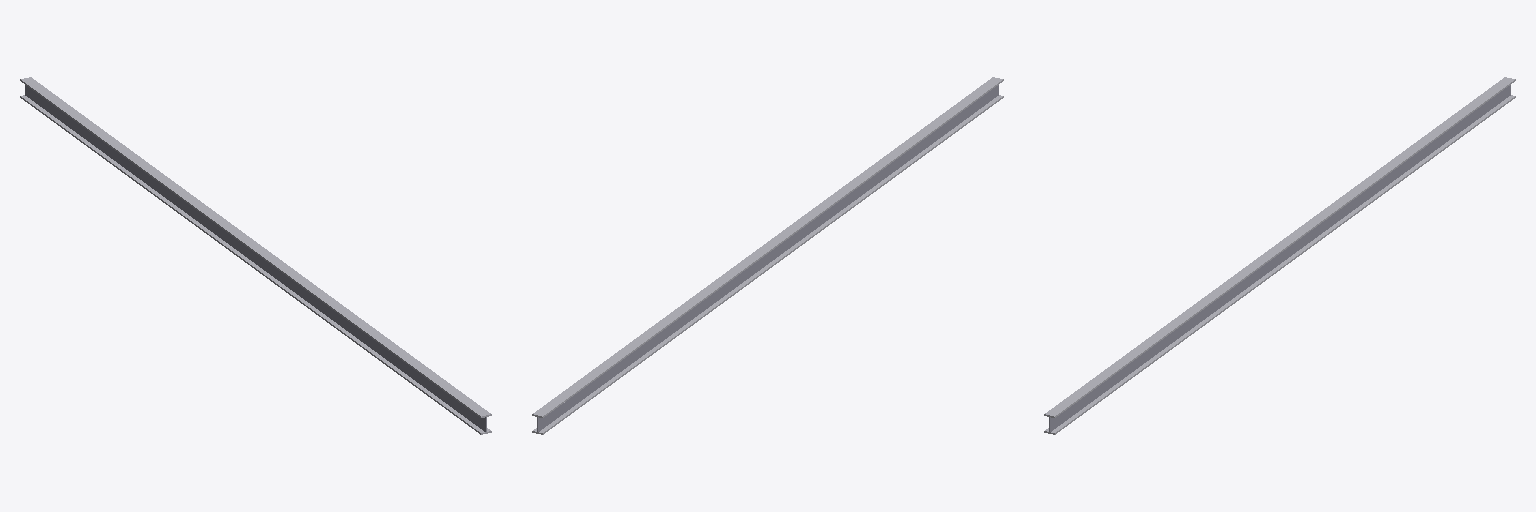
URDF robot description (h_bar):
<?xml version="1.0" ?>
<!-- =================================================================================== -->
<!-- |    This document was autogenerated by xacro from h_bar.xacro                    | -->
<!-- |    EDITING THIS FILE BY HAND IS NOT RECOMMENDED                                 | -->
<!-- =================================================================================== -->
<robot name="h_bar">
  <link name="world"/>
  <!-- Bottom leg (aligned with z-axis after rotation, below origin) -->
  <link name="hbar_bottom_leg">
    <visual>
      <origin rpy="0 1.57079633 0" xyz="0 0 0"/>
      <geometry>
        <!-- thickness x, profile width y, leg length along local z -->
        <box size="0.01 5.0 0.065"/>
      </geometry>
      <material name="hbar_material_bottom">
        <!-- Brushed steel-like gray -->
        <color rgba="0.75 0.75 0.78 1.0"/>
      </material>
    </visual>
    <collision>
      <origin rpy="0 1.57079633 0" xyz="0 0 0"/>
      <geometry>
        <box size="0.01 5.0 0.065"/>
      </geometry>
    </collision>
    <inertial>
      <origin rpy="0 0 0" xyz="0 0 0"/>
      <mass value="0.3333333333333333"/>
      <inertia ixx="0.6945618055555556" ixy="0.0" ixz="0.0" iyy="0.00012013888888888891" iyz="0.0" izz="0.6944472222222222"/>
    </inertial>
  </link>
  <!-- Top leg (aligned with z-axis after rotation, above origin) -->
  <link name="hbar_top_leg">
    <visual>
      <origin rpy="0 1.57079633 0" xyz="0 0 0"/>
      <geometry>
        <box size="0.01 5.0 0.065"/>
      </geometry>
      <material name="hbar_material_top">
        <!-- Brushed steel-like gray -->
        <color rgba="0.75 0.75 0.78 1.0"/>
      </material>
    </visual>
    <collision>
      <origin rpy="0 1.57079633 0" xyz="0 0 0"/>
      <geometry>
        <box size="0.01 5.0 0.065"/>
      </geometry>
    </collision>
    <inertial>
      <origin rpy="0 0 0" xyz="0 0 0"/>
      <mass value="0.3333333333333333"/>
      <inertia ixx="0.6945618055555556" ixy="0.0" ixz="0.0" iyy="0.00012013888888888891" iyz="0.0" izz="0.6944472222222222"/>
    </inertial>
  </link>
  <!-- Crossbar: vertical (aligned with z-axis) at the origin -->
  <link name="hbar_crossbar">
    <visual>
      <!-- Thickness in x,y, length in z -->
      <origin rpy="0 0 0" xyz="0 0 0"/>
      <geometry>
        <box size="0.01 5.0 0.1"/>
      </geometry>
      <material name="hbar_material_cross">
        <!-- Slightly darker steel for visual contrast -->
        <color rgba="0.65 0.65 0.7 1.0"/>
      </material>
    </visual>
    <collision>
      <origin rpy="0 0 0" xyz="0 0 0"/>
      <geometry>
        <box size="0.01 5.0 0.1"/>
      </geometry>
    </collision>
    <inertial>
      <origin rpy="0 0 0" xyz="0 0 0"/>
      <mass value="0.3333333333333333"/>
      <inertia ixx="0.6947222222222222" ixy="0.0" ixz="0.0" iyy="0.0002805555555555556" iyz="0.0" izz="0.6944472222222222"/>
    </inertial>
  </link>
  <!-- Fix crossbar to world; its center is at the macro pose -->
  <joint name="hbar_cross_fix" type="fixed">
    <parent link="world"/>
    <child link="hbar_crossbar"/>
    <origin rpy="0 0 0" xyz="0 0 0"/>
  </joint>
  <!-- Top leg: translated +L_leg/2 in x and +L_span/2 in z relative to crossbar -->
  <joint name="hbar_top_fix" type="fixed">
    <parent link="hbar_crossbar"/>
    <child link="hbar_top_leg"/>
    <origin rpy="0 0.0 0" xyz="0 0 0.05"/>
  </joint>
  <!-- Bottom leg: translated +L_leg/2 in x and -L_span/2 in z relative to crossbar -->
  <joint name="hbar_bottom_fix" type="fixed">
    <parent link="hbar_crossbar"/>
    <child link="hbar_bottom_leg"/>
    <origin rpy="0 0 0" xyz="0 0 -0.05"/>
  </joint>
</robot>

--- What the picture shows (computed from the rendered views, not written in the file) ---
The picture shows the robot from 3 angles, left to right: view 1: azimuth 30°, elevation 25°; view 2: azimuth 150°, elevation 25°; view 3: azimuth 330°, elevation 25°; orthographic projection.
Model h_bar with 4 links and 3 joints (3 fixed), rooted at world, posed all joints at 0.
Links seen in each view (by area): view 1: hbar_top_leg, hbar_crossbar, hbar_bottom_leg; view 2: hbar_top_leg, hbar_crossbar, hbar_bottom_leg; view 3: hbar_top_leg, hbar_crossbar, hbar_bottom_leg.
Boxes of the visible links, x1,y1,x2,y2 form: hbar_top_leg: (20,77,491,417); hbar_crossbar: (25,85,486,431); hbar_bottom_leg: (20,95,491,434); hbar_top_leg: (532,77,1003,417); hbar_crossbar: (537,85,998,431); hbar_bottom_leg: (532,95,1003,434); hbar_top_leg: (1044,77,1515,417); hbar_crossbar: (1049,85,1510,431); hbar_bottom_leg: (1044,95,1515,434).
Size in the robot's own frame: 0.065 by 5 by 0.11 metres.
Geometry: primitives only (box / cylinder / sphere), no mesh files.
